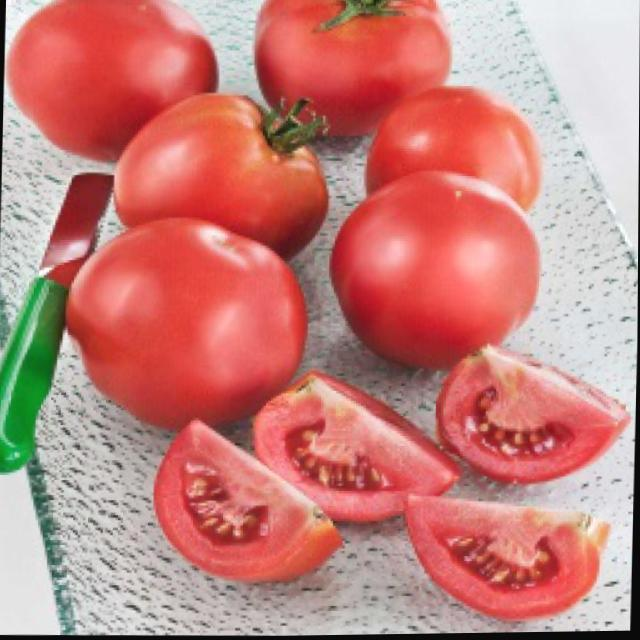tomato: (63, 227, 305, 429), (332, 179, 541, 370), (109, 93, 333, 264), (7, 0, 218, 163), (249, 0, 455, 141), (363, 85, 546, 218)
